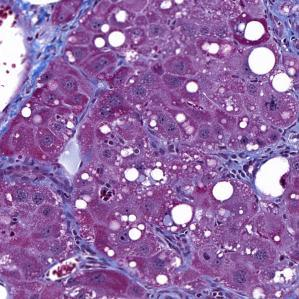fibrosis: (5, 3, 75, 94), (44, 168, 96, 272), (199, 143, 270, 187)
